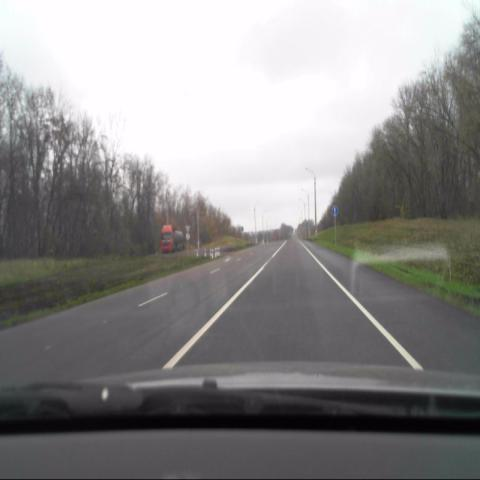4_1_1: (331, 204, 338, 217)
